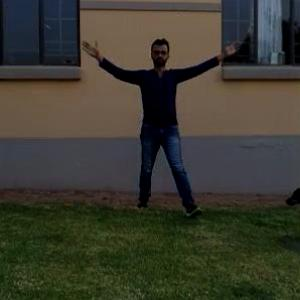takeoff: (74, 37, 226, 200)
